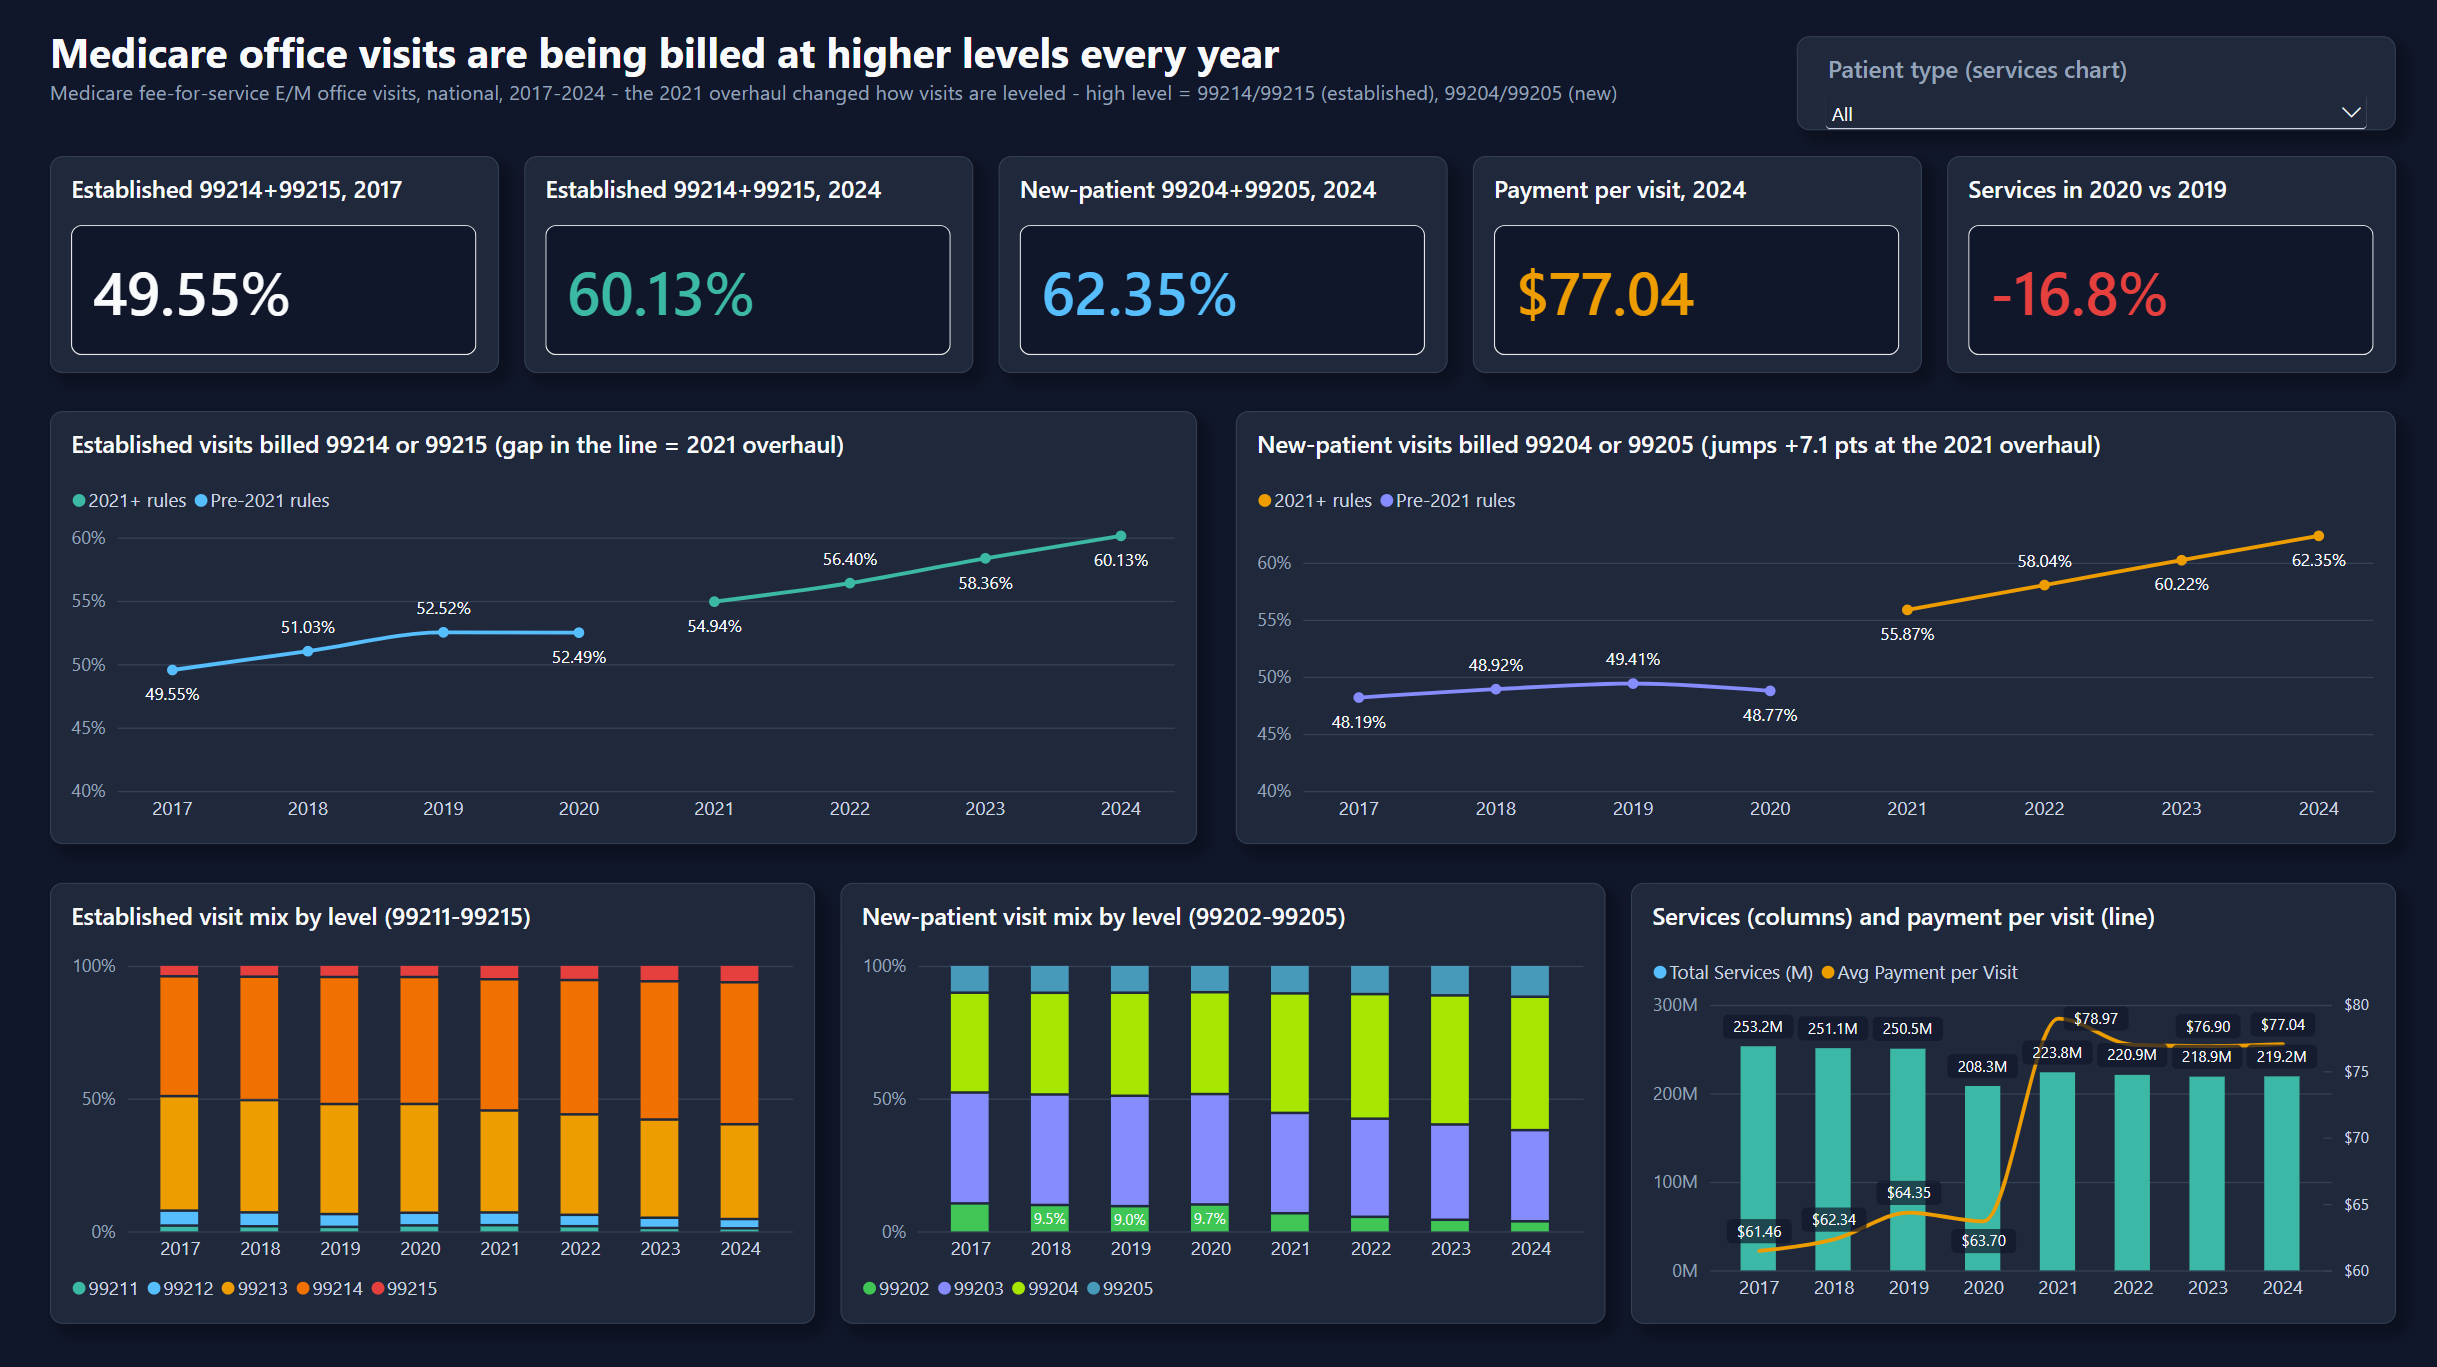

The dashboard page shown, as its layout file describes it:
{"tool":"powerbi","page":{"name":"National Coding Intensity Trend","canvas":[1920,1080],"ordinal":0},"visuals":[{"type":"textbox","box":[40,20,1340,84],"z":100},{"type":"slicer","fields":{"Values":["DimEM.patient_type"]},"box":[1410,30,470,74],"z":150},{"type":"cardVisual","title":"Established 99214+99215, 2017","fields":{"Data":["_Measures.Established 99214+99215 Share"]},"box":[40,124,352,170],"z":200},{"type":"cardVisual","title":"Established 99214+99215, 2024","fields":{"Data":["_Measures.Established 99214+99215 Share"]},"box":[412,124,352,170],"z":200},{"type":"cardVisual","title":"New-patient 99204+99205, 2024","fields":{"Data":["_Measures.New 99204+99205 Share"]},"box":[784,124,352,170],"z":200},{"type":"cardVisual","title":"Payment per visit, 2024","fields":{"Data":["_Measures.Avg Payment per Visit"]},"box":[1156,124,352,170],"z":200},{"type":"cardVisual","title":"Services in 2020 vs 2019","fields":{"Data":["_Measures.Services YoY %"]},"box":[1528,124,352,170],"z":200},{"type":"lineChart","title":"Established visits billed 99214 or 99215 (gap in the line = 2021 overhaul)","fields":{"Category":["DimYear.yr"],"Y":["_Measures.Established 99214+99215 Share"],"Series":["FactEM.coding_era"]},"box":[40,324,900,340],"z":300},{"type":"lineChart","title":"New-patient visits billed 99204 or 99205 (jumps +7.1 pts at the 2021 overhaul)","fields":{"Category":["DimYear.yr"],"Y":["_Measures.New 99204+99205 Share"],"Series":["FactEM.coding_era"]},"box":[970,324,910,340],"z":300},{"type":"columnChart","title":"Established visit mix by level (99211-99215)","fields":{"Category":["DimYear.yr"],"Series":["DimEM.hcpcs_cd"],"Y":["_Measures.Level Share within Patient Type"]},"box":[40,694,600,346],"z":300},{"type":"columnChart","title":"New-patient visit mix by level (99202-99205)","fields":{"Category":["DimYear.yr"],"Series":["DimEM.hcpcs_cd"],"Y":["_Measures.Level Share within Patient Type"]},"box":[660,694,600,346],"z":300},{"type":"lineClusteredColumnComboChart","title":"Services (columns) and payment per visit (line)","fields":{"Category":["DimYear.yr"],"Y":["_Measures.Total Services (M)"],"Y2":["_Measures.Avg Payment per Visit"]},"box":[1280,694,600,346],"z":300}]}

Visuals, with their boxes in screenshot pixels (x1, y1, x2, y2), scaled from the page's 1920x1080 canvas onto the 2437x1367 screenshot:
textbox: detection(51, 25, 1752, 132)
slicer - DimEM.patient_type: detection(1790, 38, 2386, 132)
"Established 99214+99215, 2017" cardVisual: detection(51, 157, 498, 372)
"Established 99214+99215, 2024" cardVisual: detection(523, 157, 970, 372)
"New-patient 99204+99205, 2024" cardVisual: detection(995, 157, 1442, 372)
"Payment per visit, 2024" cardVisual: detection(1467, 157, 1914, 372)
"Services in 2020 vs 2019" cardVisual: detection(1939, 157, 2386, 372)
"Established visits billed 99214 or 99215 (gap in the line = 2021 overhaul)" lineChart: detection(51, 410, 1193, 840)
"New-patient visits billed 99204 or 99205 (jumps +7.1 pts at the 2021 overhaul)" lineChart: detection(1231, 410, 2386, 840)
"Established visit mix by level (99211-99215)" columnChart: detection(51, 878, 812, 1316)
"New-patient visit mix by level (99202-99205)" columnChart: detection(838, 878, 1599, 1316)
"Services (columns) and payment per visit (line)" lineClusteredColumnComboChart: detection(1625, 878, 2386, 1316)
